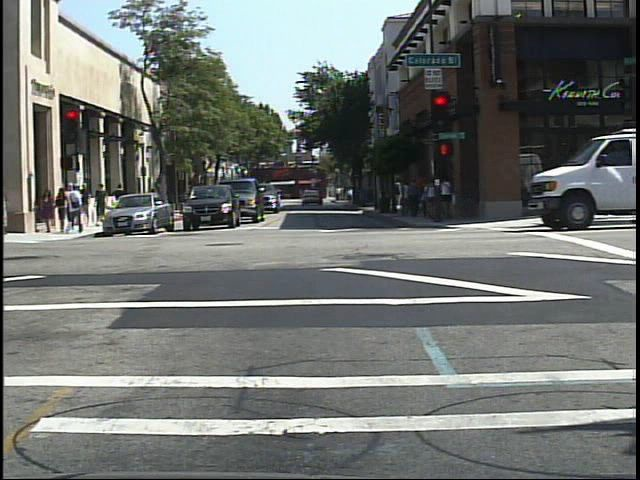person: (64, 181, 87, 239)
